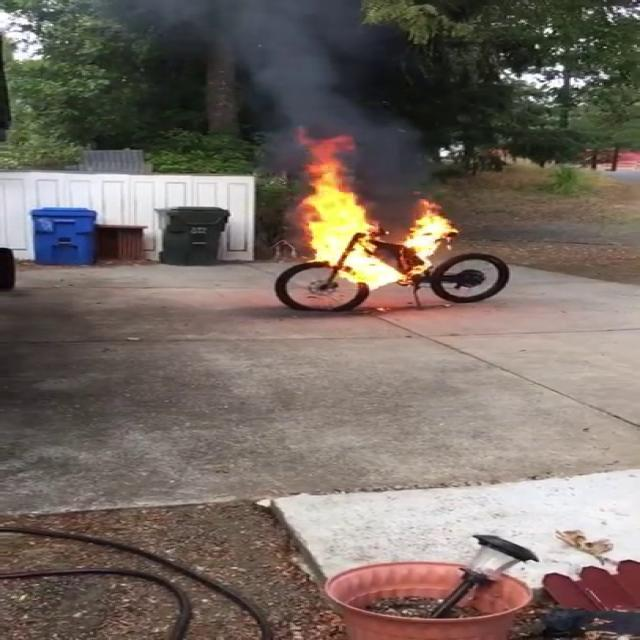Fire: (288, 142, 462, 288)
Smoke: (145, 0, 424, 165)
